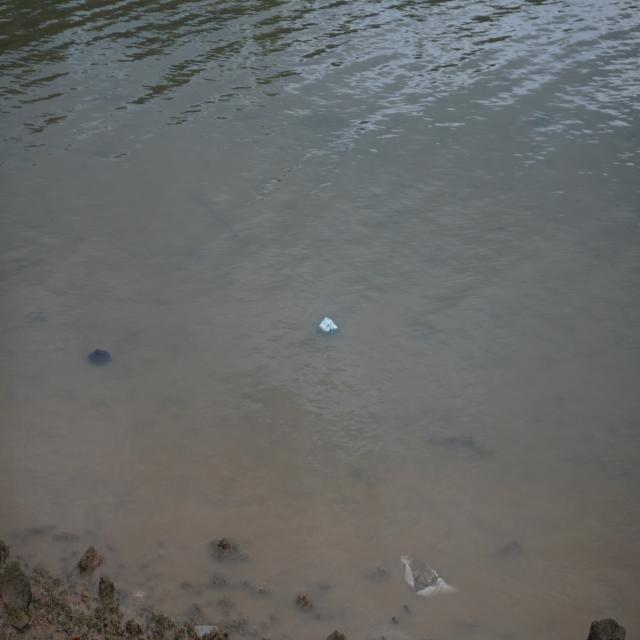Kantong Plastik: (318, 312, 339, 341)
